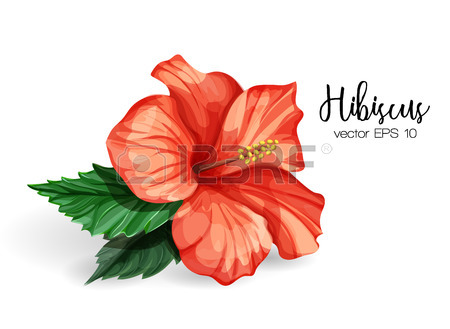Hibiscus: (110, 55, 336, 272)
